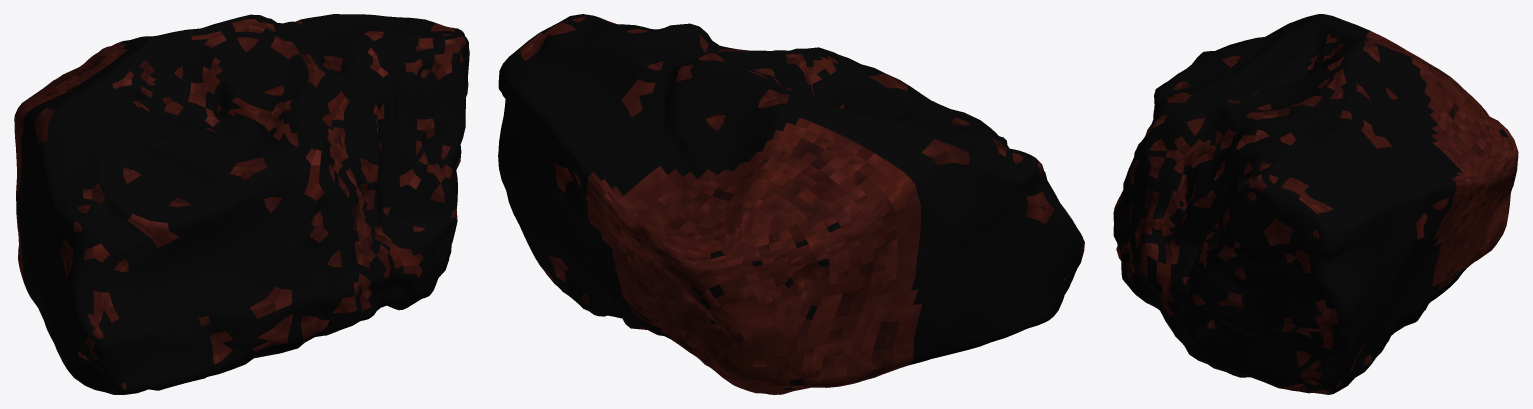
The model's file is Rock_01.FBX.
3 views of the same model, side by side, from view 1: azimuth 30°, elevation 25°; view 2: azimuth 150°, elevation 25°; view 3: azimuth 270°, elevation 25° (orthographic). The views are drawn at different scales.
Visible parts, largest first — view 1: Original_copy1; view 2: Original_copy1; view 3: Original_copy1.
Part boxes in pixels (x1=…): Original_copy1: x1=14, y1=14, x2=469, y2=394; Original_copy1: x1=498, y1=14, x2=1084, y2=394; Original_copy1: x1=1113, y1=14, x2=1518, y2=394.
Size of the model in its own units: 0.0731 by 0.0395 by 0.0568.
